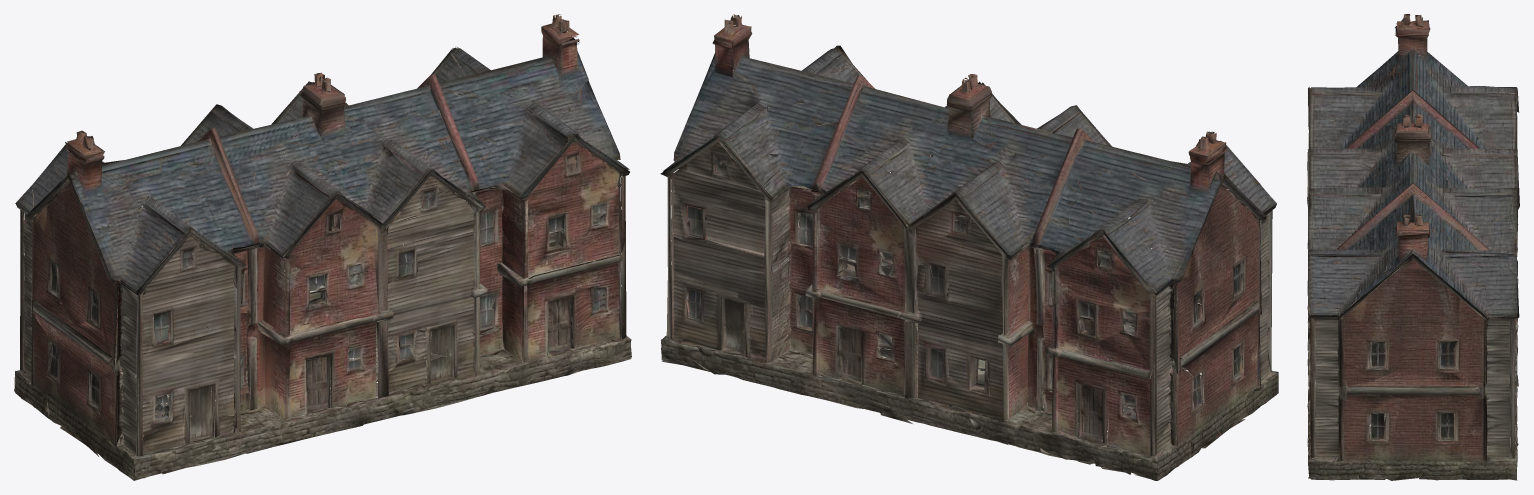
Rendered from city-block-rear-a.glb.
3 renders of one model, left to right at view 1: azimuth 30°, elevation 25°; view 2: azimuth 150°, elevation 25°; view 3: azimuth 270°, elevation 25°, orthographic. The views are drawn at different scales.
Parts seen in each view (by area): view 1: Mesh_0; view 2: Mesh_0; view 3: Mesh_0.
Boxes of the visible parts, left/top/right/bottom form: Mesh_0: left=14, top=14, right=631, bottom=480; Mesh_0: left=660, top=14, right=1278, bottom=480; Mesh_0: left=1307, top=14, right=1519, bottom=480.
Bounding box in the file's own units: 1.91 × 1.09 × 0.7964.
Materials: 1 (1 with a texture image).
